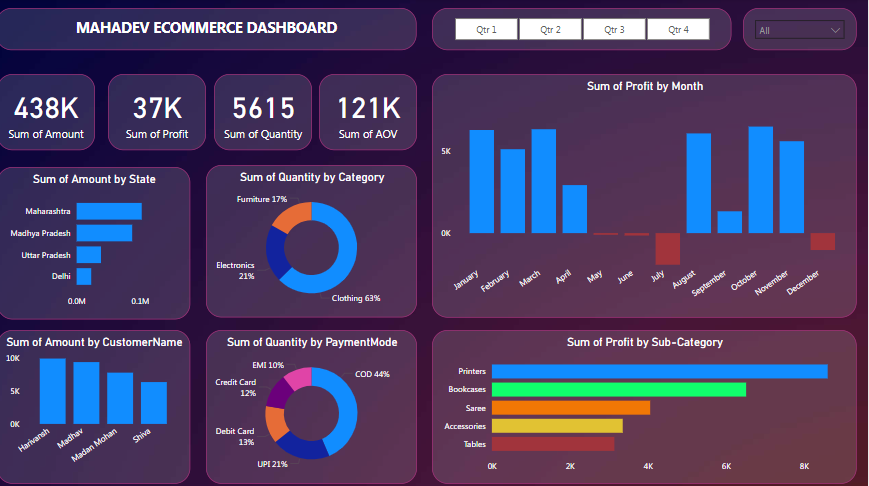

What the dashboard file says about the page in this screenshot:
{"tool":"powerbi","page":{"name":"Page 1","canvas":[1280,720],"ordinal":0},"visuals":[{"type":"textbox","box":[0,14,618,62],"z":0},{"type":"columnChart","fields":{"Category":["Orders.Order Date.Variation.Date Hierarchy.Month"],"Y":["Sum(Details.Profit)"]},"box":[640,112,624,358],"z":1000},{"type":"barChart","fields":{"Category":["Details.Sub-Category"],"Y":["Sum(Details.Profit)"]},"box":[640,488,624,226],"z":2000},{"type":"donutChart","fields":{"Category":["Details.PaymentMode"],"Y":["Sum(Details.Quantity)"]},"box":[308,488,310,226],"z":3000},{"type":"donutChart","fields":{"Category":["Details.Category"],"Y":["Sum(Details.Quantity)"]},"box":[308,246,310,224],"z":4000},{"type":"card","fields":{"Values":["Sum(Details.Amount)"]},"box":[2,112,144,112],"z":5000},{"type":"card","fields":{"Values":["Sum(Details.AOV)"]},"box":[474,112,144,112],"z":6000},{"type":"card","fields":{"Values":["Sum(Details.Profit)"]},"box":[164,112,144,112],"z":7000},{"type":"card","fields":{"Values":["Sum(Details.Quantity)"]},"box":[320,112,144,112],"z":8000},{"type":"barChart","fields":{"Category":["Orders.State"],"Y":["Sum(Details.Amount)"]},"box":[2,248,284,224],"z":9000},{"type":"columnChart","fields":{"Category":["Orders.CustomerName"],"Y":["Sum(Details.Amount)"]},"box":[2,488,284,226],"z":10000},{"type":"slicer","fields":{"Values":["Orders.Order Date.Variation.Date Hierarchy.Quarter"]},"box":[640,14.4,440,62.2],"z":11000},{"type":"slicer","fields":{"Values":["Orders.State"]},"box":[1097.8,14.4,166.7,62.2],"z":11001}]}

Visuals, with their boxes in screenshot pixels (x1, y1, x2, y2), scaled from the page's 1280x720 canvas onto the 869x486 screenshot:
textbox: crop(0, 9, 420, 51)
columnChart - Orders.Order Date.Variation.Date Hierarchy.Month x Sum(Details.Profit): crop(434, 76, 858, 317)
barChart - Details.Sub-Category x Sum(Details.Profit): crop(434, 329, 858, 482)
donutChart - Details.PaymentMode x Sum(Details.Quantity): crop(209, 329, 420, 482)
donutChart - Details.Category x Sum(Details.Quantity): crop(209, 166, 420, 317)
card - Sum(Details.Amount): crop(1, 76, 99, 151)
card - Sum(Details.AOV): crop(322, 76, 420, 151)
card - Sum(Details.Profit): crop(111, 76, 209, 151)
card - Sum(Details.Quantity): crop(217, 76, 315, 151)
barChart - Orders.State x Sum(Details.Amount): crop(1, 167, 194, 319)
columnChart - Orders.CustomerName x Sum(Details.Amount): crop(1, 329, 194, 482)
slicer - Orders.Order Date.Variation.Date Hierarchy.Quarter: crop(434, 10, 733, 52)
slicer - Orders.State: crop(745, 10, 858, 52)
